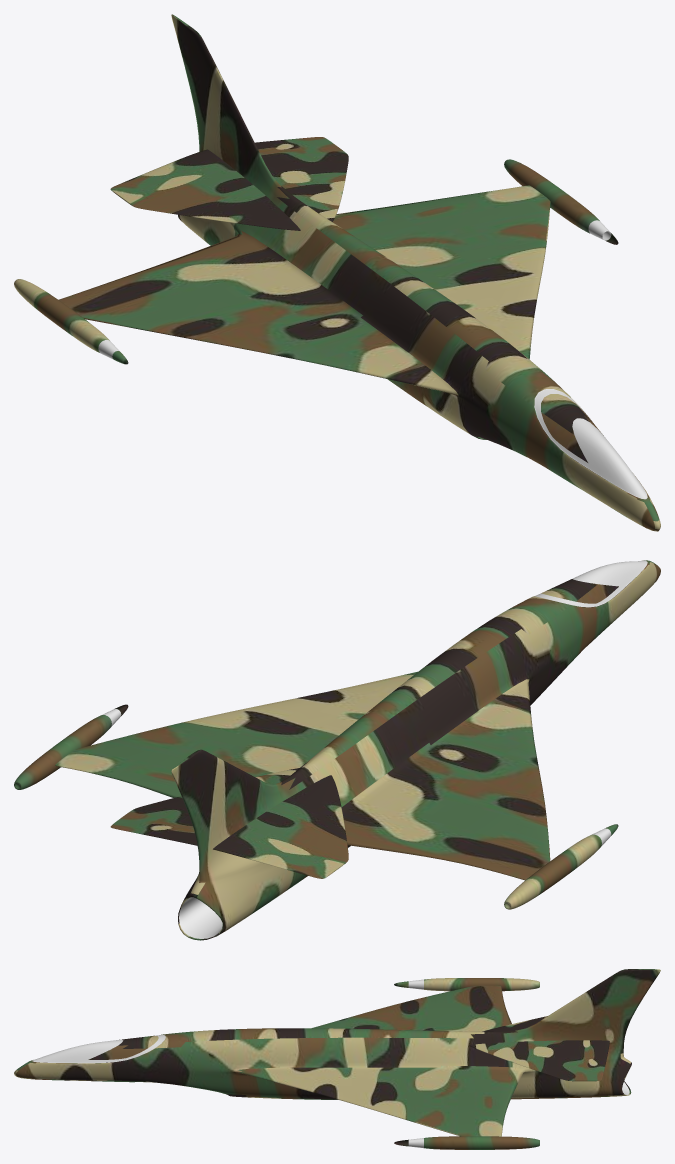
3 renders of one model, top to bottom at view 1: azimuth 30°, elevation 25°; view 2: azimuth 150°, elevation 25°; view 3: azimuth 270°, elevation 25°, orthographic. The views are drawn at different scales.
Parts seen in each view (by area): view 1: SC_Wing_G.AMP_L01_.001_Cube.008; view 2: SC_Wing_G.AMP_L01_.001_Cube.008; view 3: SC_Wing_G.AMP_L01_.001_Cube.008.
Boxes of the visible parts, bbox=[...] form: SC_Wing_G.AMP_L01_.001_Cube.008: bbox=[14, 14, 660, 531]; SC_Wing_G.AMP_L01_.001_Cube.008: bbox=[14, 560, 660, 940]; SC_Wing_G.AMP_L01_.001_Cube.008: bbox=[14, 969, 660, 1149].
Size of the model in its own units: 25.23 by 9.18 by 42.
Materials: 5 (1 with a texture image).
